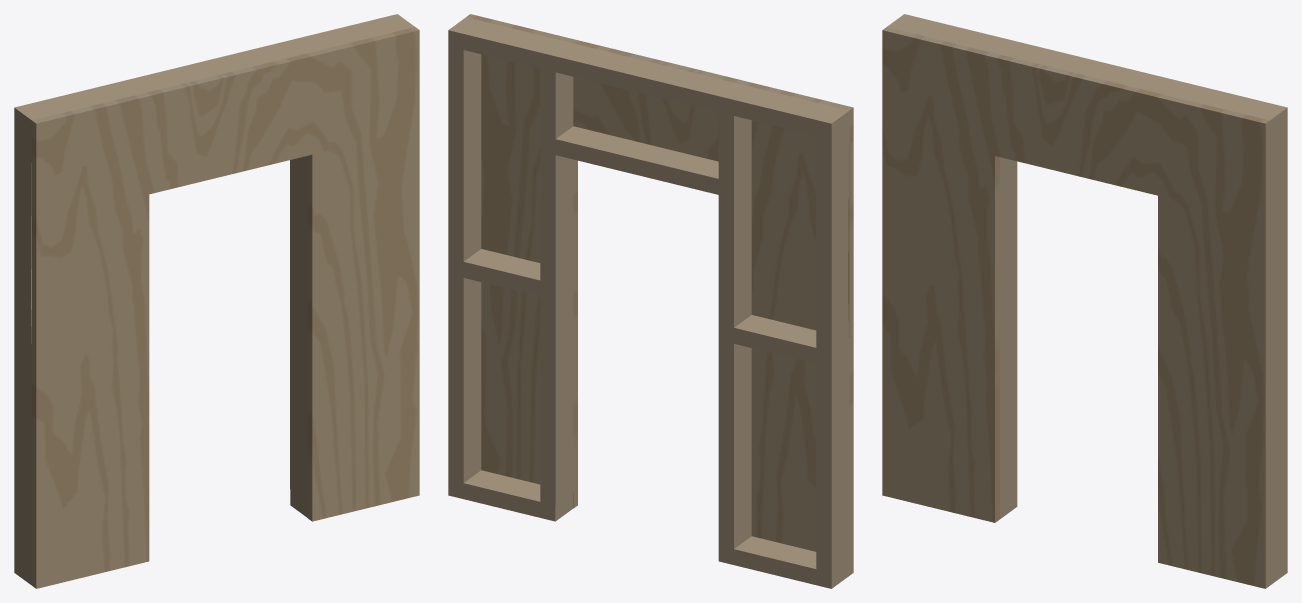
The model's file is SM_Bld_House_Wall_Door_02.glb.
3 views of the same model, side by side, from view 1: azimuth 30°, elevation 25°; view 2: azimuth 150°, elevation 25°; view 3: azimuth 330°, elevation 25° (orthographic).
Parts seen in each view (by area): view 1: SM_Bld_House_Wall_Door_02; view 2: SM_Bld_House_Wall_Door_02; view 3: SM_Bld_House_Wall_Door_02.
Part boxes in pixels (x1,y1,x2,y2): SM_Bld_House_Wall_Door_02: (14,14,419,588); SM_Bld_House_Wall_Door_02: (448,14,853,588); SM_Bld_House_Wall_Door_02: (882,14,1287,588).
Size of the model in its own units: 2.5 by 2.9 by 0.25.
Materials: 1 (1 with a texture image).
